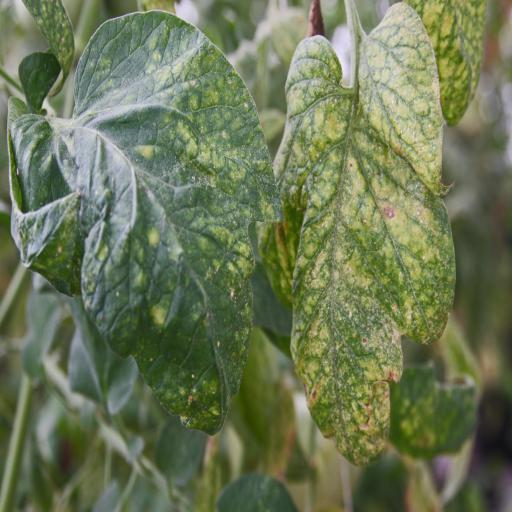Spider Mites: (51, 12, 281, 440), (266, 0, 455, 466)
